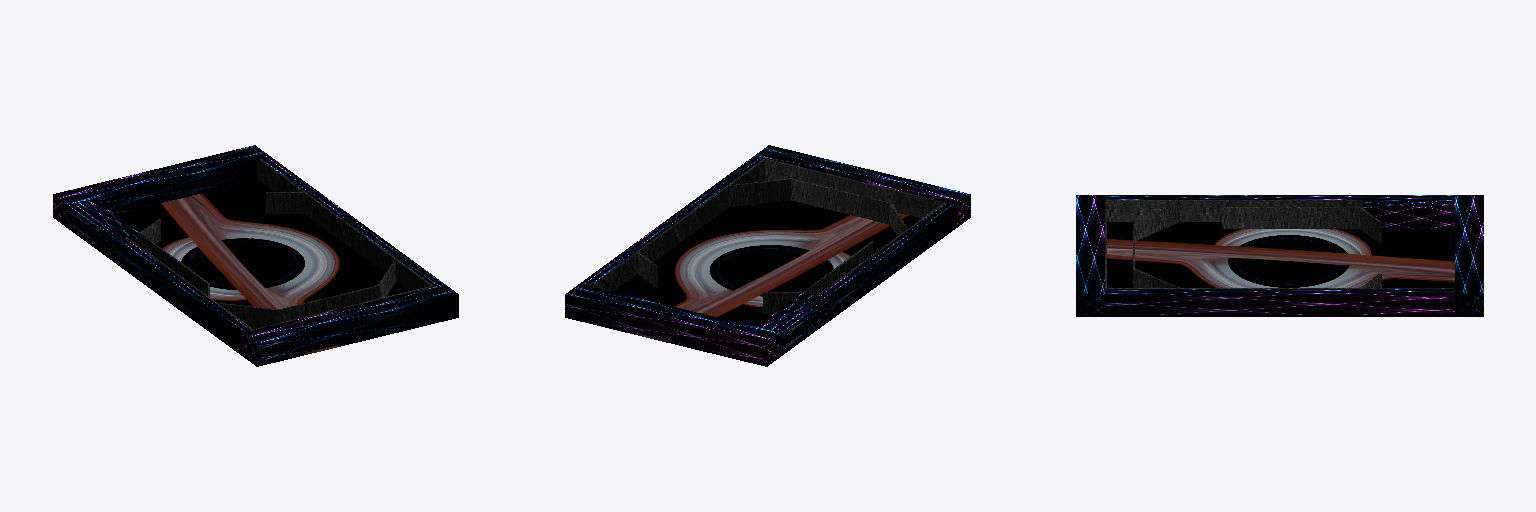
3 views of the same model, side by side, from view 1: azimuth 30°, elevation 25°; view 2: azimuth 150°, elevation 25°; view 3: azimuth 270°, elevation 25° (orthographic).
Visible parts, largest first — view 1: Cube.002, Cube, Cube.007; view 2: Cube, Cube.002, Cube.007; view 3: Cube, Cube.002, Cube.007.
Boxes of the visible parts, x1,y1,x2,y2 form: Cube.002: [53, 145, 458, 364]; Cube: [53, 180, 458, 366]; Cube.007: [125, 158, 432, 330]; Cube: [565, 200, 970, 366]; Cube.002: [565, 145, 970, 364]; Cube.007: [591, 158, 945, 313]; Cube: [1076, 222, 1483, 316]; Cube.002: [1076, 195, 1483, 314]; Cube.007: [1105, 200, 1454, 288].
Bounding box in the file's own units: 40 × 4.4 × 70.
3 materials, 3 textured.